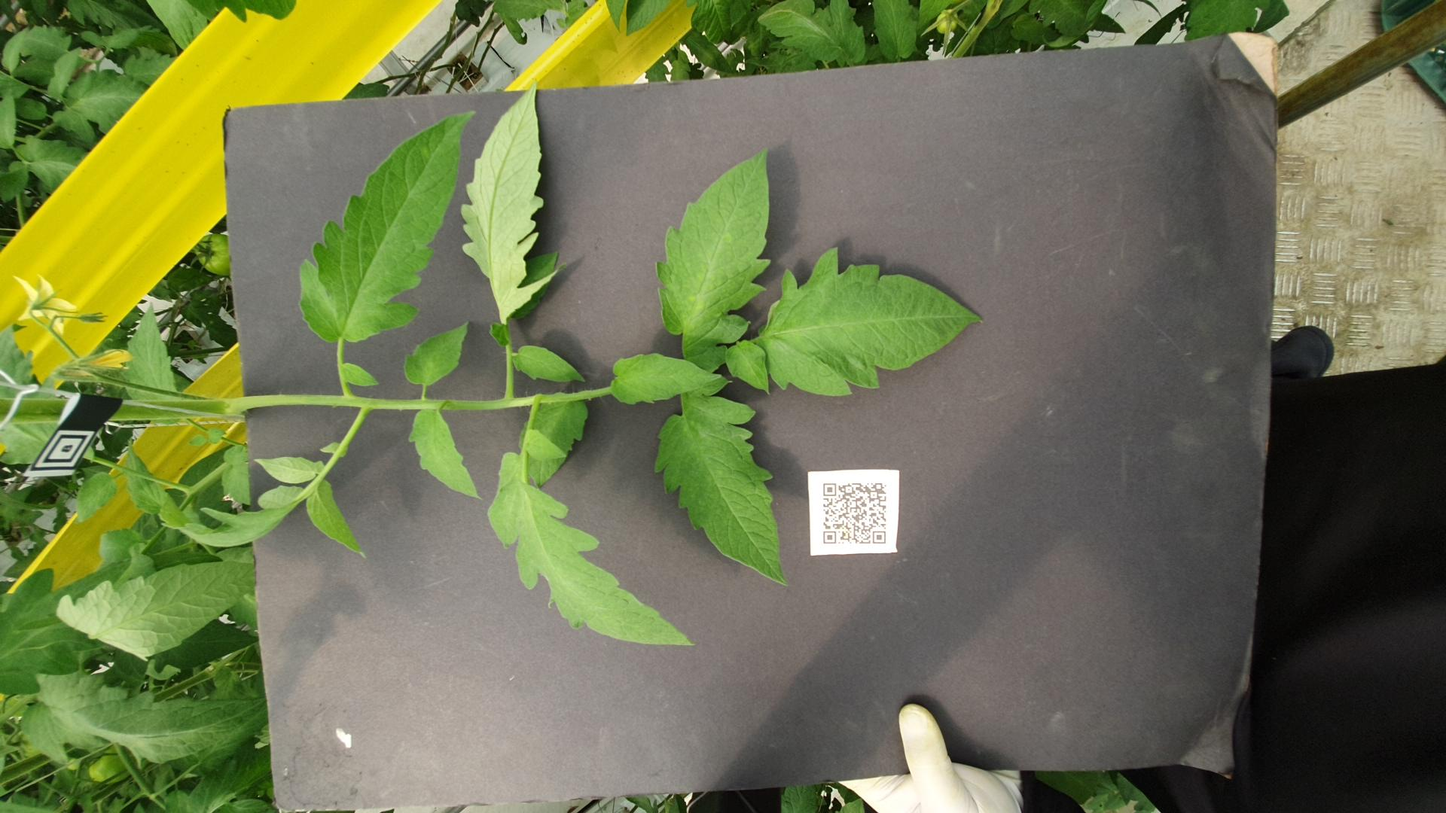Healthy: (298, 273, 684, 391), (835, 167, 1256, 269), (741, 425, 1006, 554), (782, 368, 1189, 436), (861, 258, 1304, 319), (400, 368, 740, 445), (451, 88, 664, 206), (83, 10, 254, 150), (274, 31, 449, 143), (1189, 28, 1323, 84), (556, 229, 720, 272), (1331, 426, 1446, 487), (725, 341, 820, 406), (734, 69, 912, 101), (760, 227, 873, 264), (529, 70, 667, 93), (762, 287, 835, 330), (1335, 489, 1446, 515), (745, 407, 841, 433), (516, 42, 609, 66)
